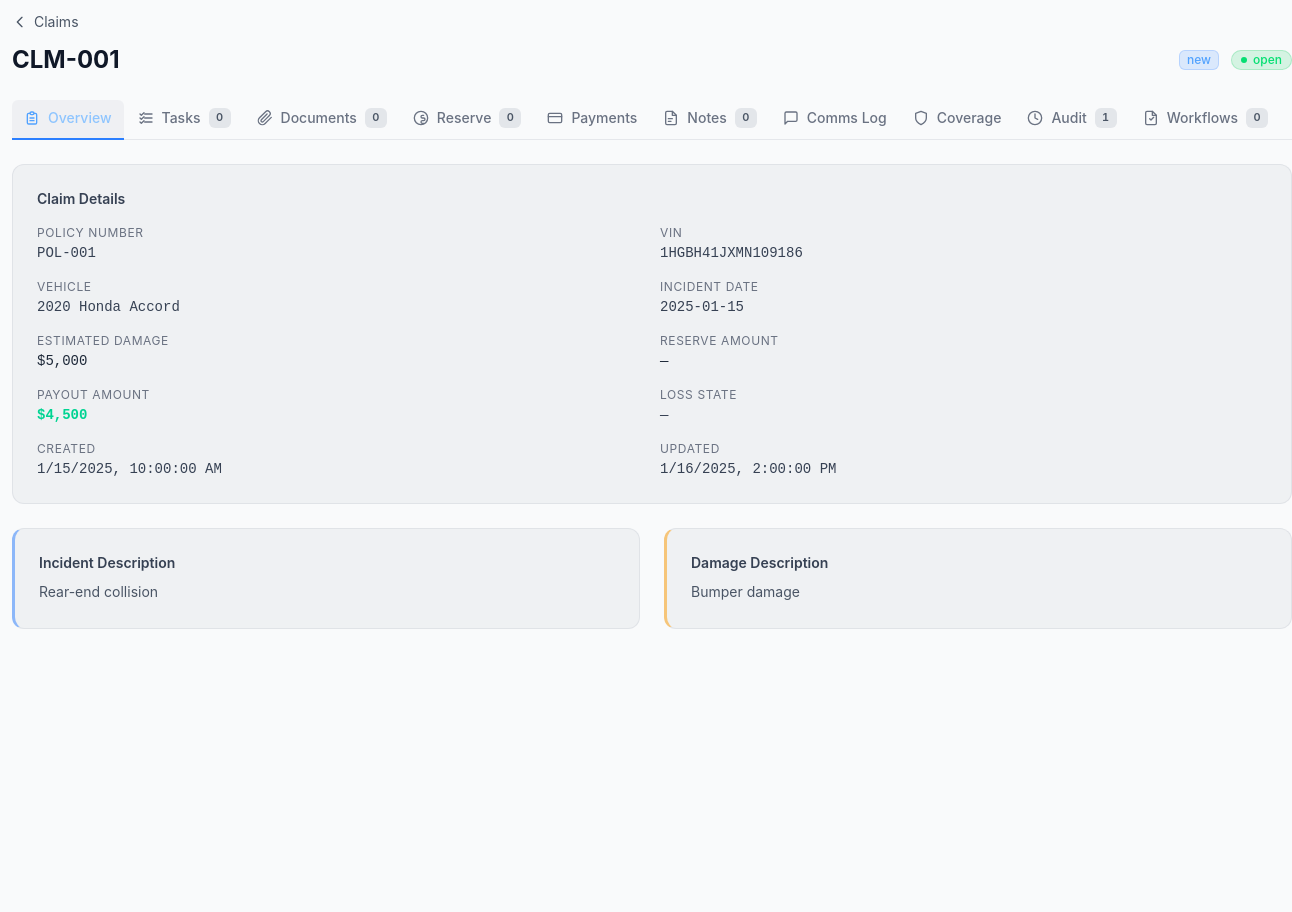
Test: ClaimDetail › switches to audit tab
The image size is (1292, 912).
Click the tab "Audit 1": (1072, 120) [1015,100,1129,140]
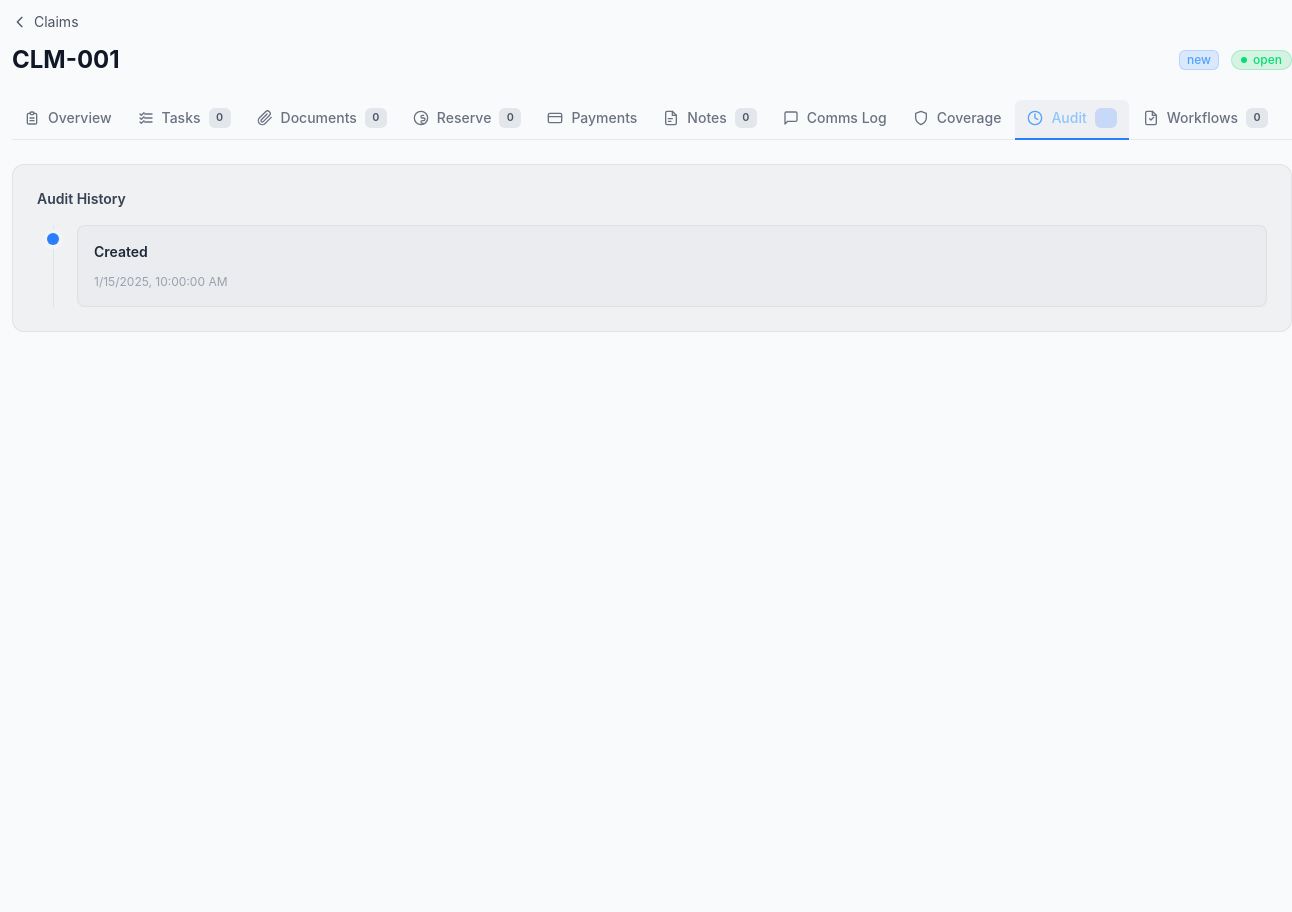
Result: the heading "Audit History" is shown at [37,190,126,207]
